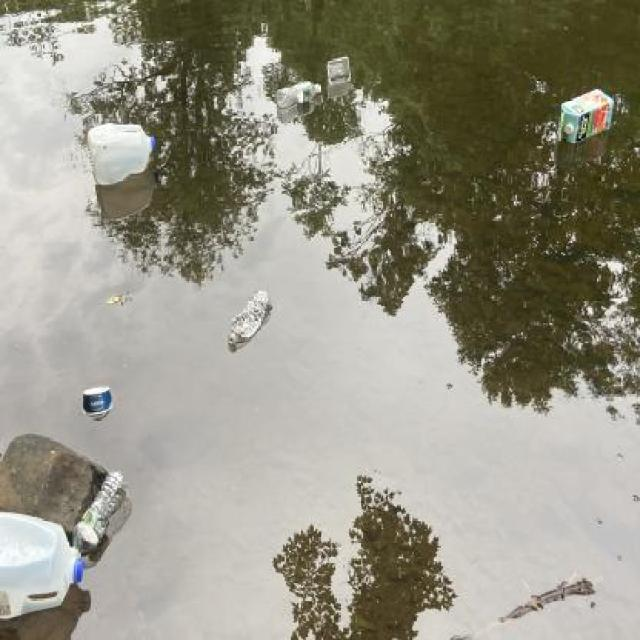Cardboard: (553, 85, 618, 150)
Paper: (76, 378, 118, 424)
Plastic: (0, 506, 91, 626), (66, 461, 134, 561), (84, 117, 158, 191), (224, 285, 274, 352), (272, 76, 322, 115), (324, 54, 351, 88)
